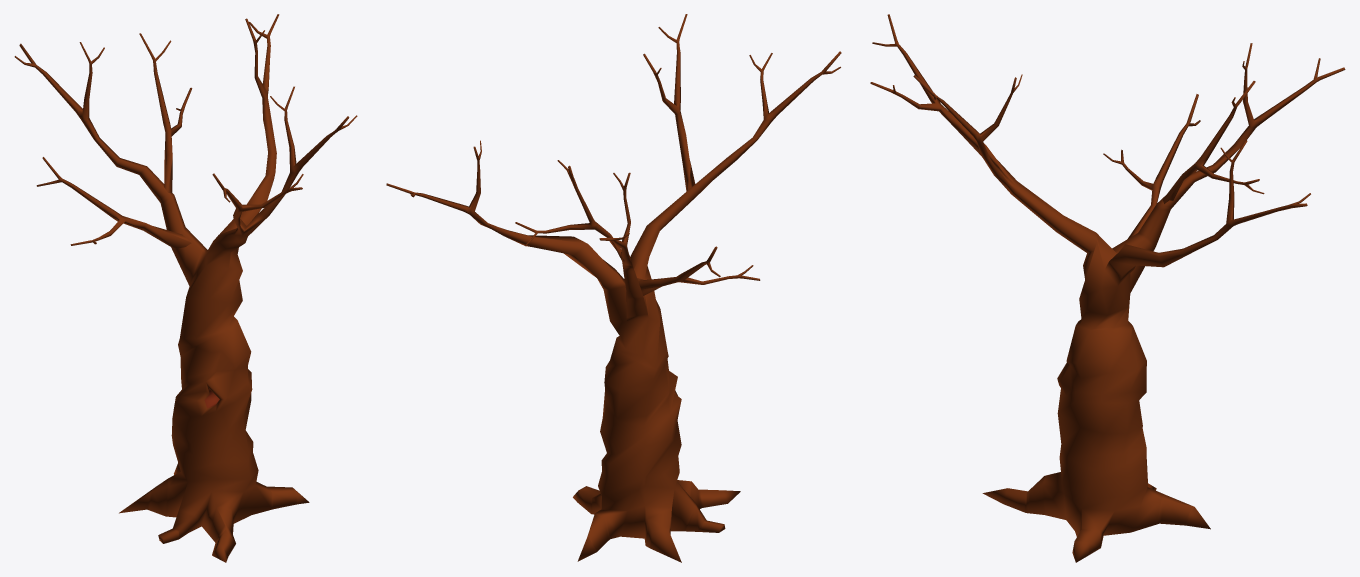
Rendered from HWN20_Tree_03.gltf.
3 views of the same model, side by side, from view 1: azimuth 30°, elevation 25°; view 2: azimuth 150°, elevation 25°; view 3: azimuth 270°, elevation 25° (orthographic). The views are drawn at different scales.
Parts seen in each view (by area): view 1: HWN20_Tree_03_glb; view 2: HWN20_Tree_03_glb; view 3: HWN20_Tree_03_glb.
Boxes of the visible parts, left/top/right/bottom form: HWN20_Tree_03_glb: left=14, top=14, right=357, bottom=562; HWN20_Tree_03_glb: left=386, top=14, right=841, bottom=562; HWN20_Tree_03_glb: left=870, top=14, right=1345, bottom=562.
Size of what is drawn, in the model's own units: 3.15 by 4.61 by 4.23.
Materials: 1 (1 with a texture image).
